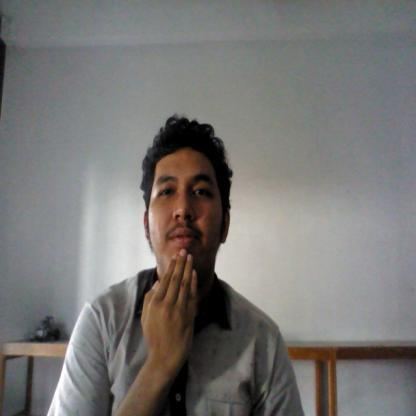Selamat-Terimakasih: (138, 246, 200, 381)
